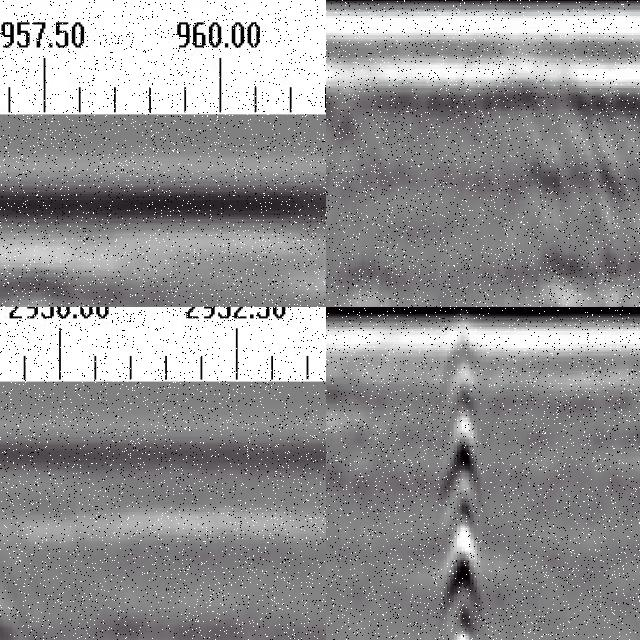crack: (436, 309, 486, 640)
loose: (529, 36, 640, 308)
